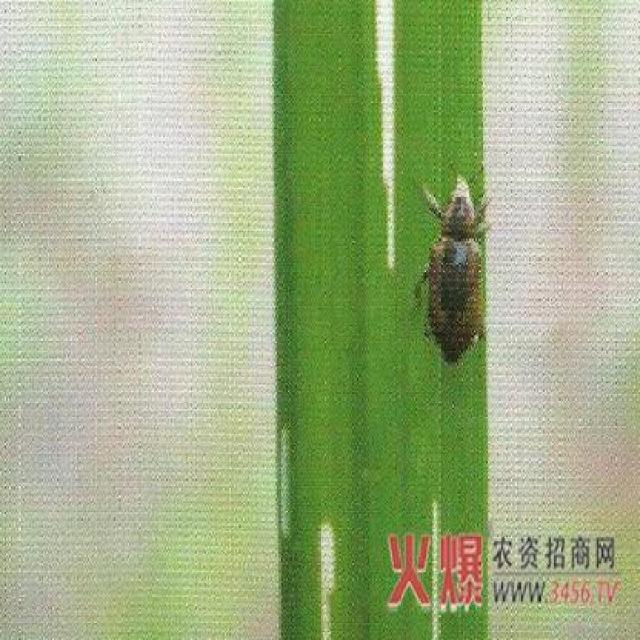rice-bug: (415, 170, 491, 364)
